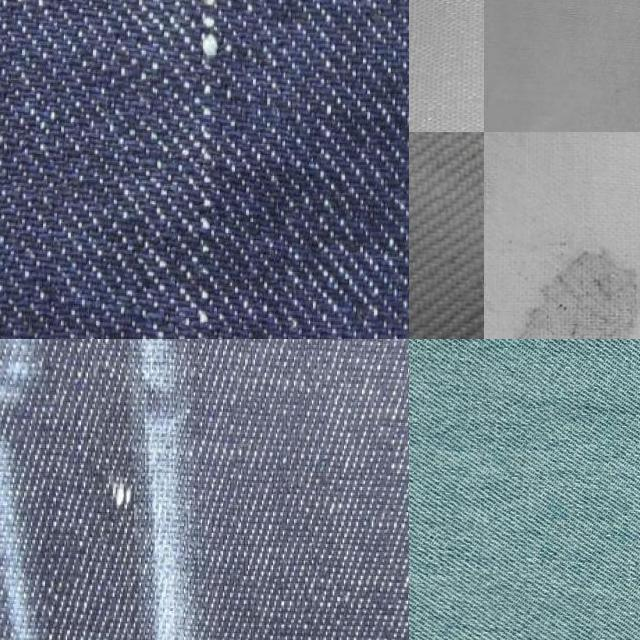Thread_other: (496, 226, 640, 339)
stains: (94, 0, 299, 339), (58, 420, 140, 542)
